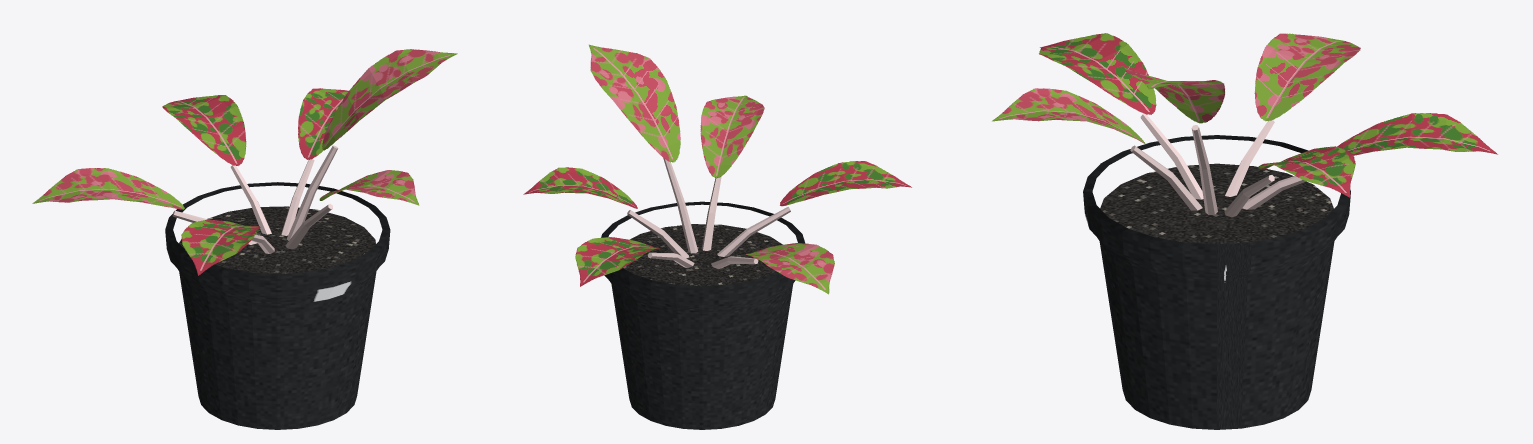
File: bunga_keladi.glb
3 renders of one model, left to right at view 1: azimuth 30°, elevation 25°; view 2: azimuth 150°, elevation 25°; view 3: azimuth 270°, elevation 25°, orthographic. The views are drawn at different scales.
Parts seen in each view (by area): view 1: Pot_Plastik_Hitam_Keladi, Daun_Keladi_Hijau_Merah, Daun_Keladi_Merah, Media_Tanam_Tanah_Pot, Tangkai_Daun_Keladi; view 2: Pot_Plastik_Hitam_Keladi, Daun_Keladi_Hijau_Merah, Daun_Keladi_Merah, Media_Tanam_Tanah_Pot, Tangkai_Daun_Keladi; view 3: Pot_Plastik_Hitam_Keladi, Daun_Keladi_Merah, Media_Tanam_Tanah_Pot, Daun_Keladi_Hijau_Merah, Tangkai_Daun_Keladi.
Boxes of the visible parts, left/top/right/bottom form: Pot_Plastik_Hitam_Keladi: left=165, top=182, right=390, bottom=429; Daun_Keladi_Hijau_Merah: left=32, top=49, right=457, bottom=209; Daun_Keladi_Merah: left=162, top=88, right=348, bottom=275; Media_Tanam_Tanah_Pot: left=179, top=206, right=375, bottom=273; Tangkai_Daun_Keladi: left=172, top=145, right=338, bottom=253; Pot_Plastik_Hitam_Keladi: left=601, top=201, right=805, bottom=429; Daun_Keladi_Hijau_Merah: left=589, top=44, right=834, bottom=294; Daun_Keladi_Merah: left=523, top=161, right=911, bottom=286; Media_Tanam_Tanah_Pot: left=623, top=224, right=782, bottom=286; Tangkai_Daun_Keladi: left=627, top=158, right=790, bottom=268; Pot_Plastik_Hitam_Keladi: left=1083, top=135, right=1350, bottom=429; Daun_Keladi_Merah: left=1039, top=33, right=1497, bottom=197; Media_Tanam_Tanah_Pot: left=1100, top=163, right=1333, bottom=244; Daun_Keladi_Hijau_Merah: left=992, top=33, right=1360, bottom=143; Tangkai_Daun_Keladi: left=1130, top=113, right=1306, bottom=217.
Size of the model in its own units: 0.585 by 0.4719 by 0.5899.
5 materials, 4 textured.
